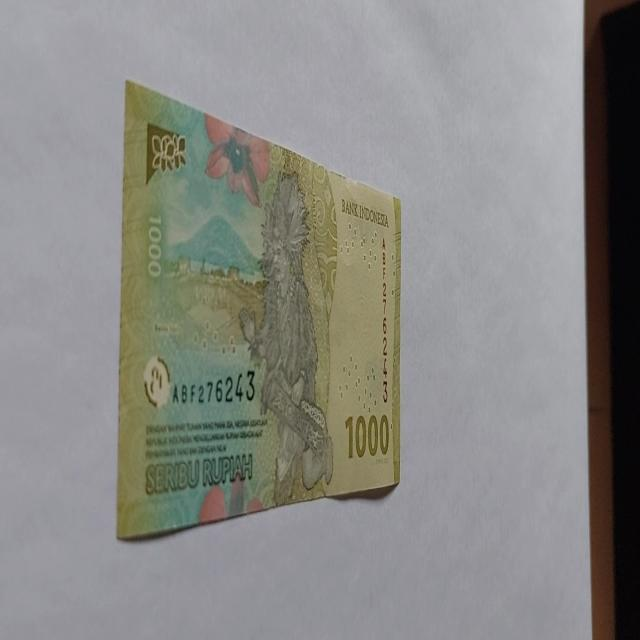seribu rupiah kertas: (116, 78, 402, 540), (238, 169, 333, 506)
